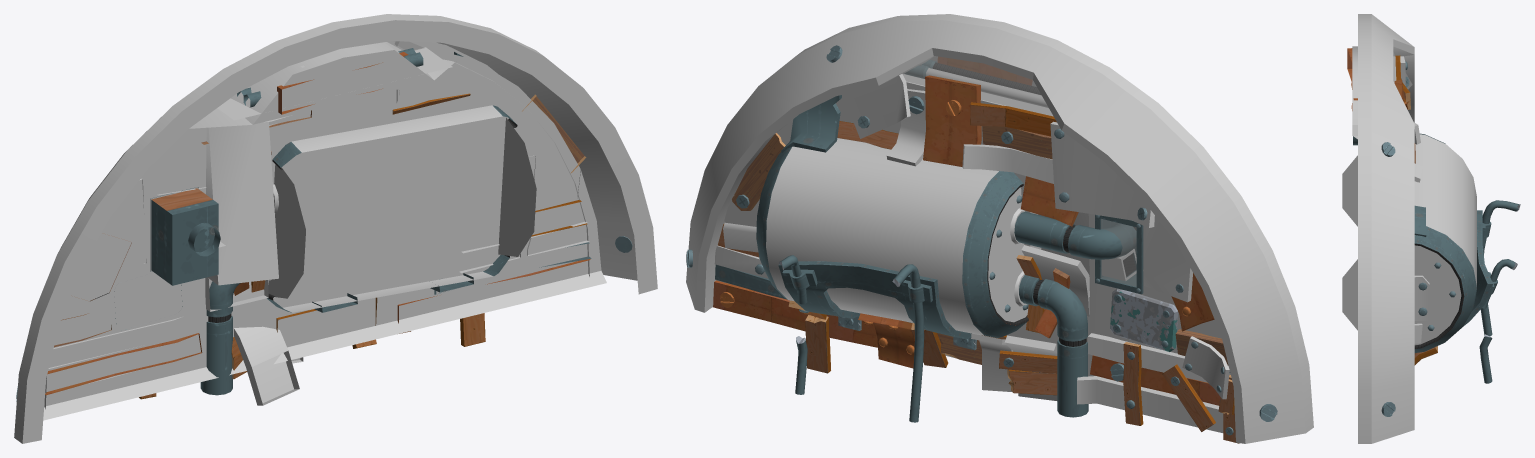
File: env_hideout_back.fbx
3 renders of one model, left to right at view 1: azimuth 30°, elevation 25°; view 2: azimuth 150°, elevation 25°; view 3: azimuth 270°, elevation 25°, orthographic. The views are drawn at different scales.
Visible parts, largest first — view 1: polySurface1352; view 2: polySurface1352; view 3: polySurface1352.
Boxes of the visible parts, box(x1,y1,x2,y2) form: polySurface1352: box(14, 14, 657, 443); polySurface1352: box(686, 14, 1313, 443); polySurface1352: box(1342, 14, 1520, 443).
Size of the model in its own units: 198 by 111 by 58.74.
